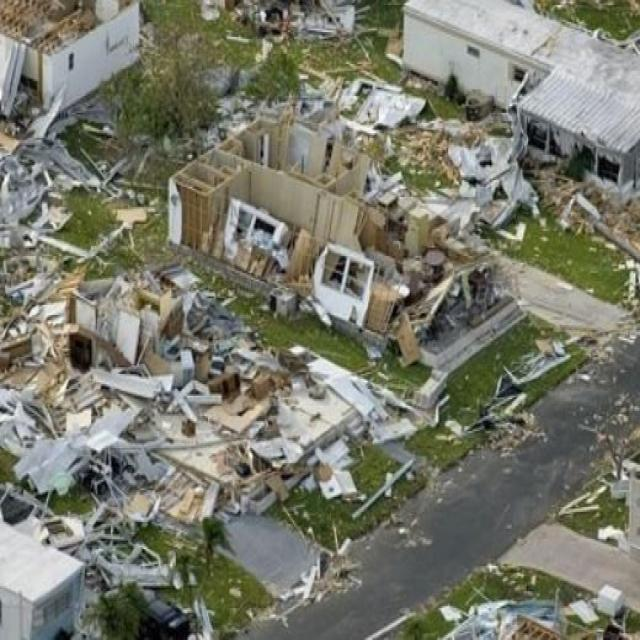collapsed_building: (0, 301, 340, 556), (166, 126, 486, 338), (405, 0, 639, 179)
